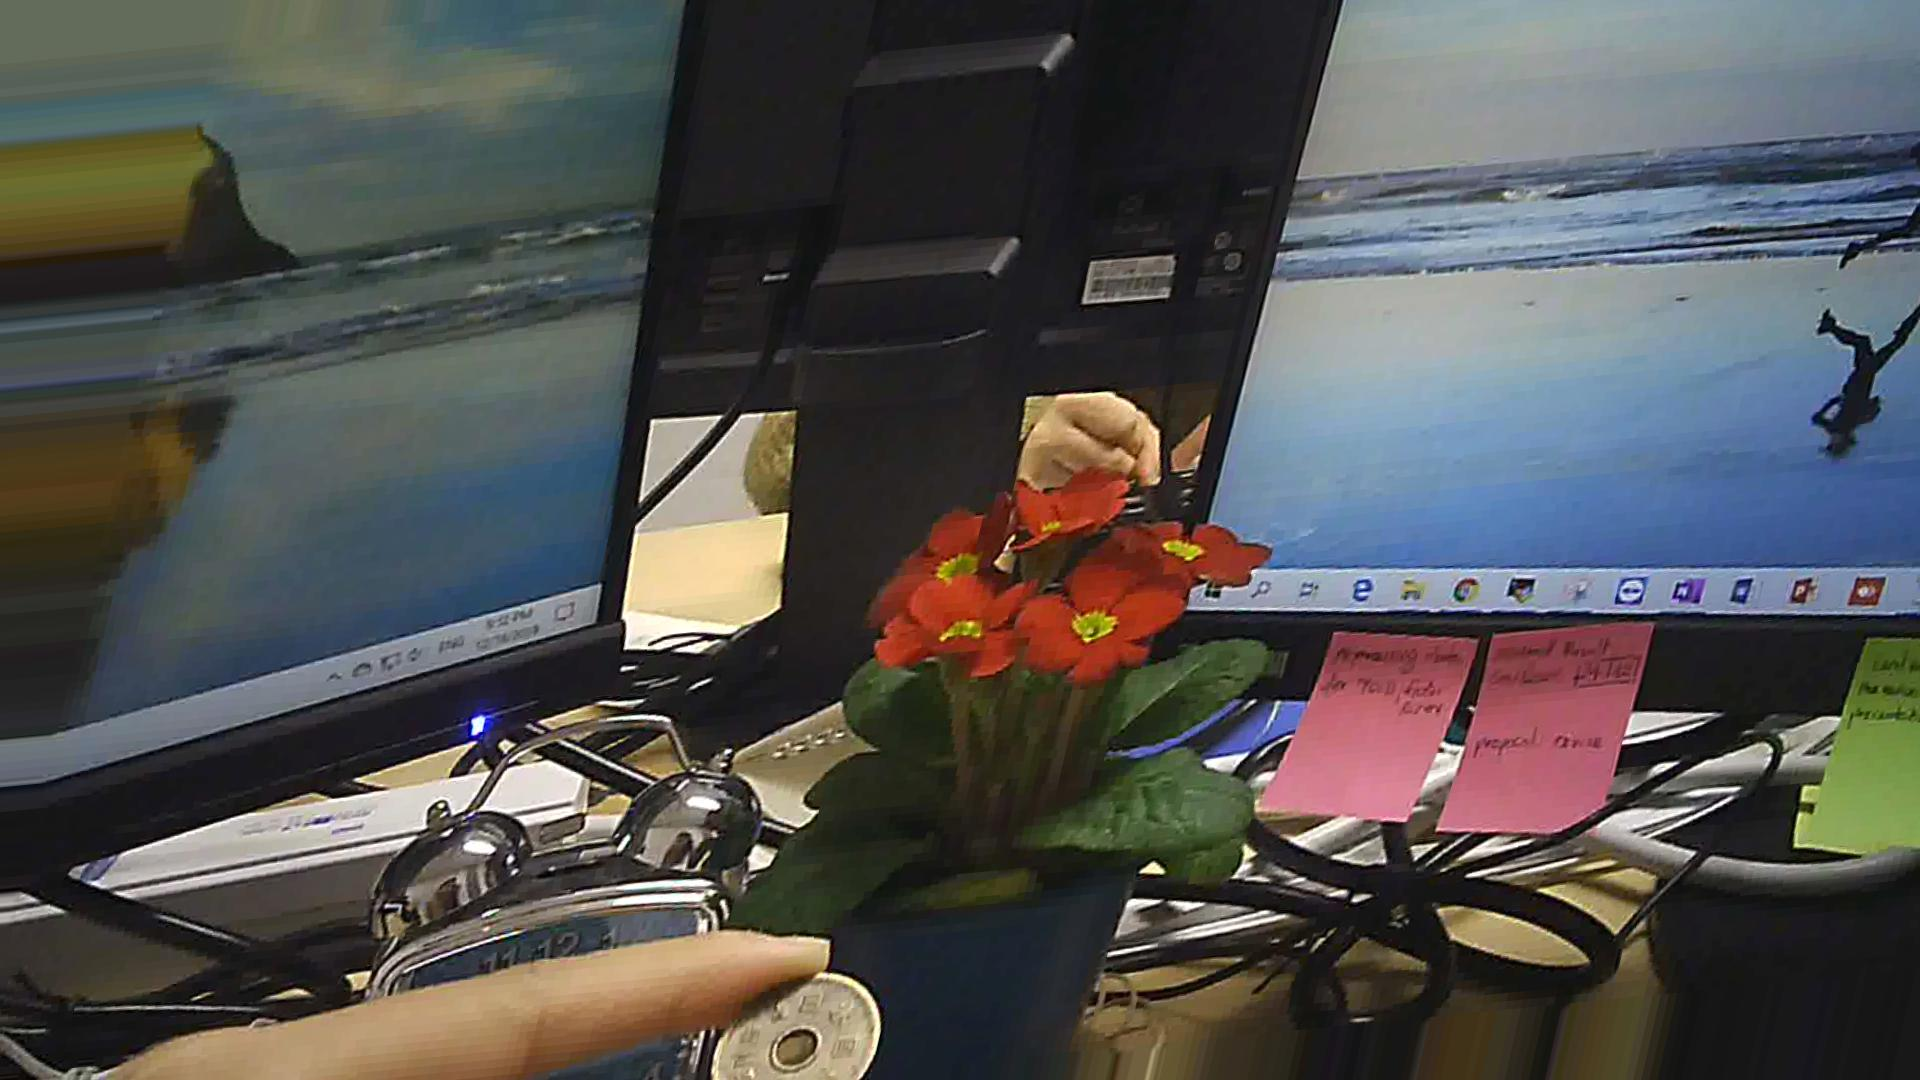5 Yen: (702, 963, 878, 1079)
